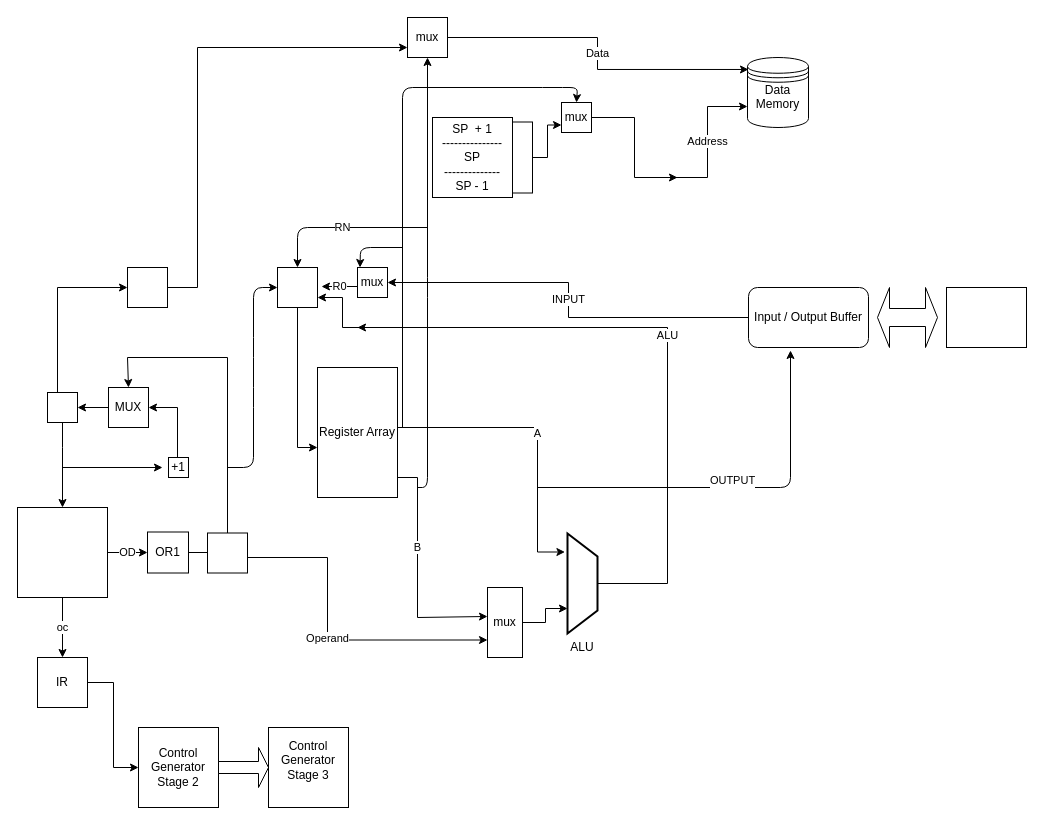
Some shapes in this 1044 by 825 pixel diagram are drawn without their labels. The shapes that lost their labels are listed below. From the top down, each one's centre as x and y in pixels, then its label:
point 522,157: M U X
point 147,287: NPC
point 297,287: MUX1
point 986,317: Module
point 62,407: PC
point 62,552: Program Memory
point 227,552: OR2
